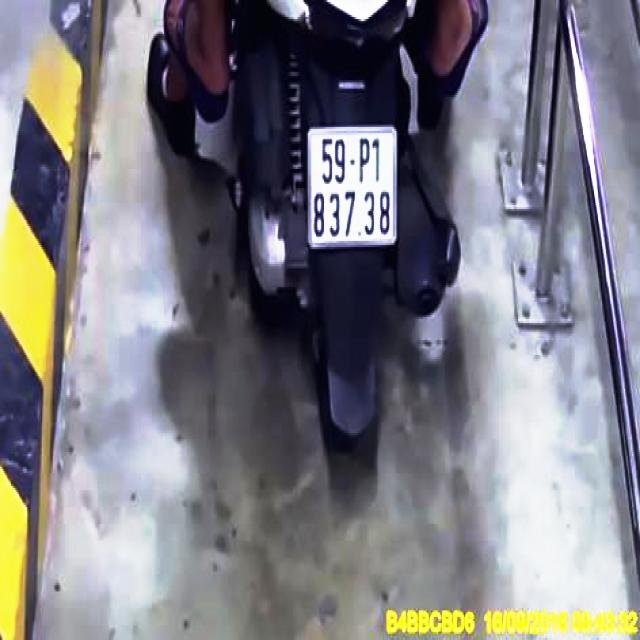license_plate: (308, 126, 399, 247)
